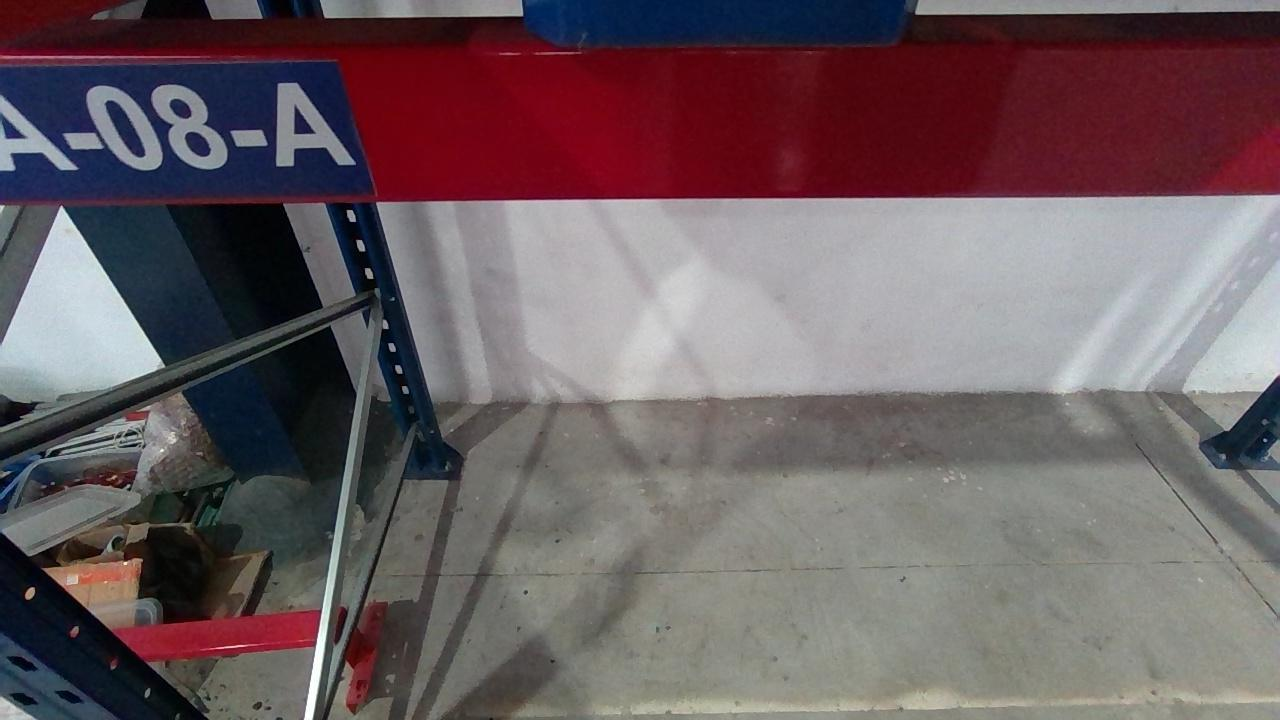h_rack: (20, 22, 1280, 205)
